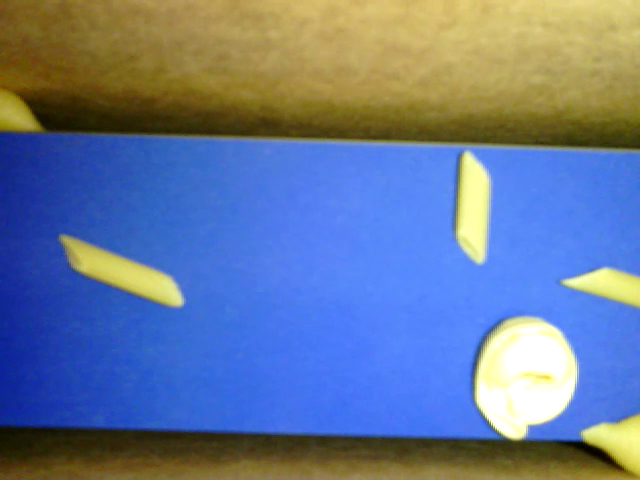penne: (58, 234, 185, 307), (454, 149, 492, 264), (559, 265, 639, 308)
shell: (580, 411, 639, 475)
tortellini: (474, 315, 578, 441)
